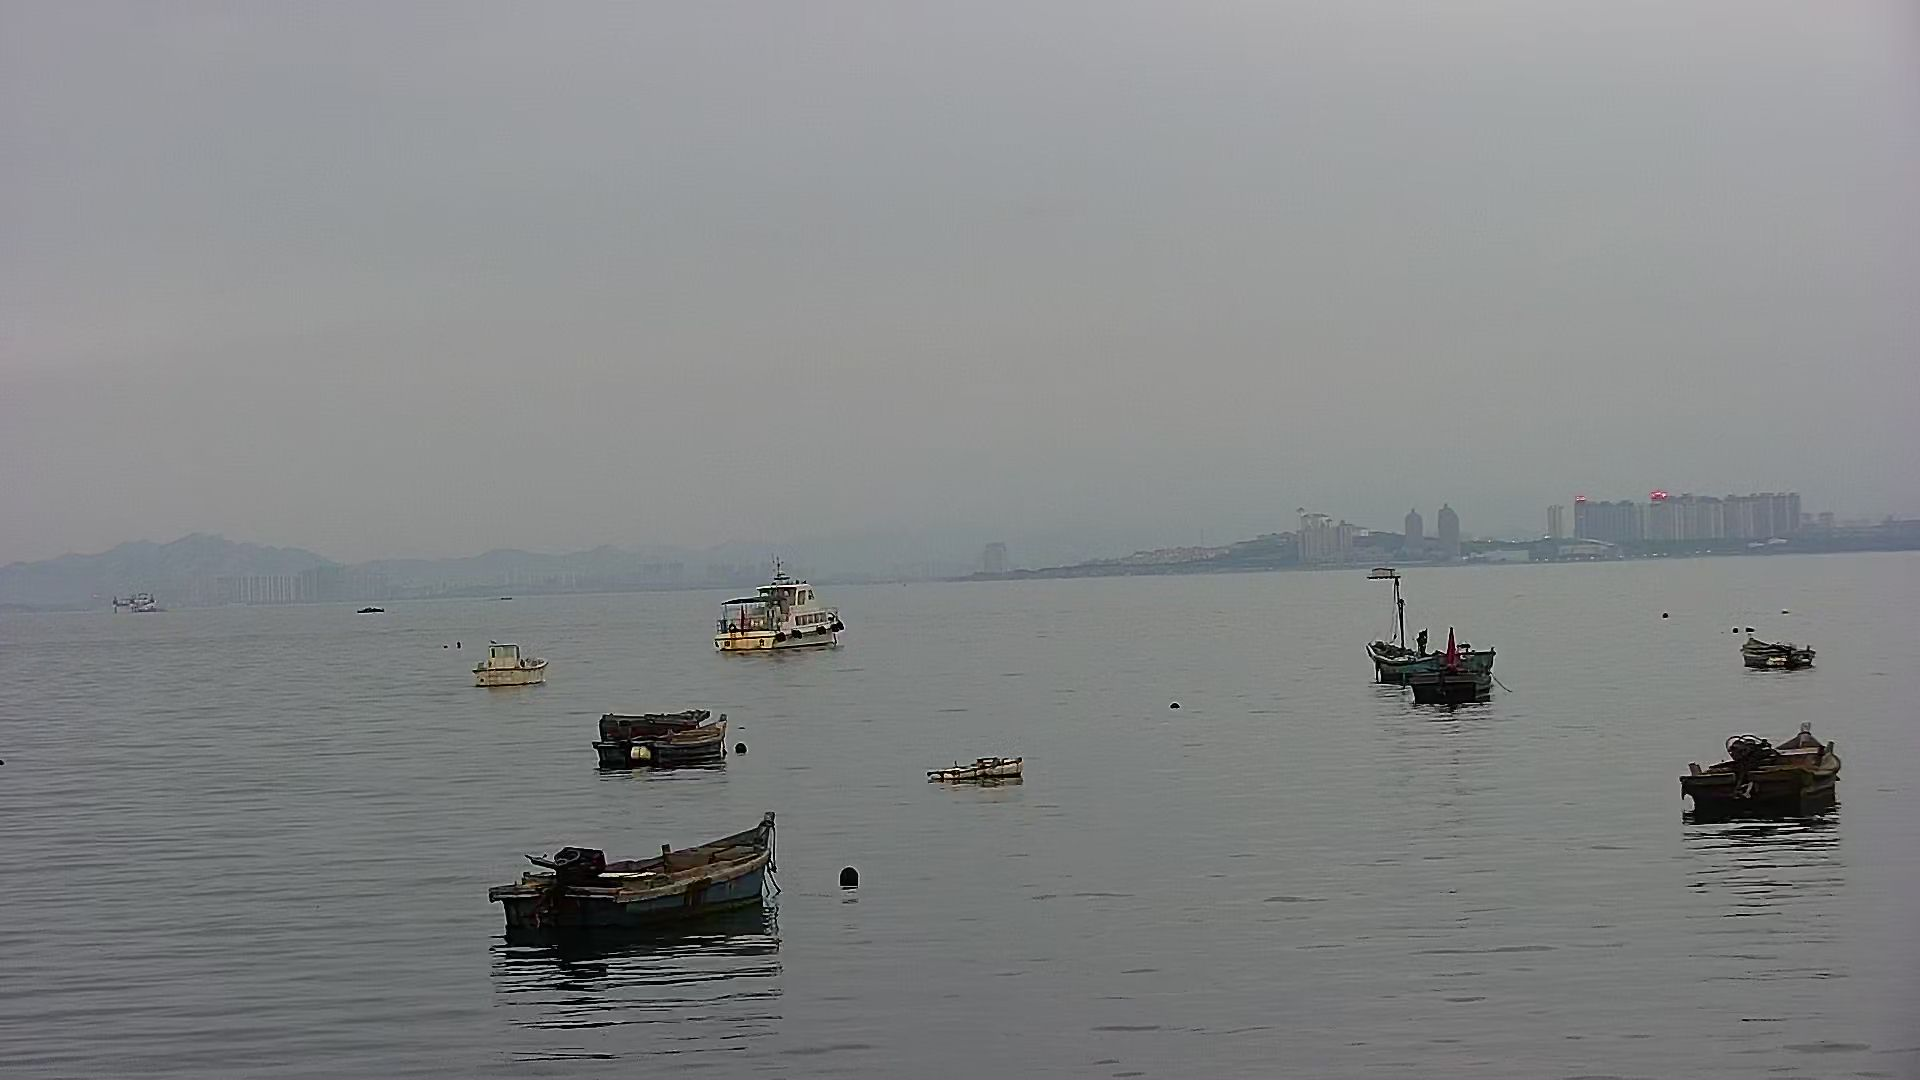ball: (832, 868, 861, 891)
boat: (487, 810, 785, 949), (1673, 709, 1851, 836), (589, 698, 744, 777), (1731, 618, 1832, 687), (1412, 651, 1501, 719), (1366, 632, 1477, 683)
rubbish: (927, 746, 1040, 793)
ship: (711, 556, 861, 663), (472, 636, 556, 691)
